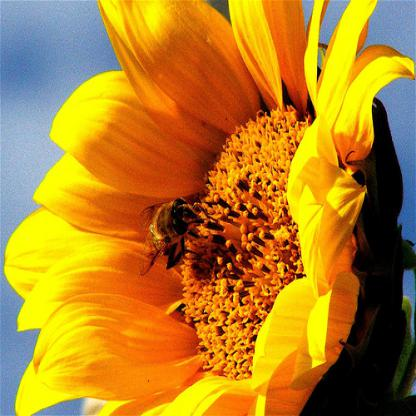SUN FLOWER: (20, 3, 411, 416)
